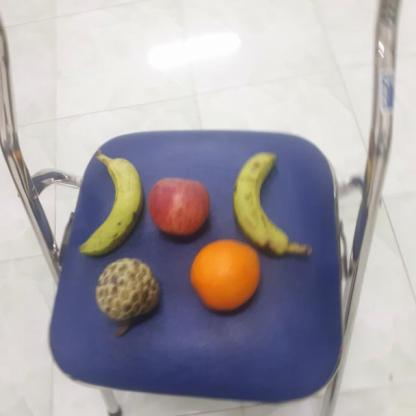annona: (93, 257, 161, 321)
apple: (147, 176, 213, 237)
banana: (74, 154, 145, 259), (229, 148, 297, 256)
orange: (188, 238, 262, 311)
